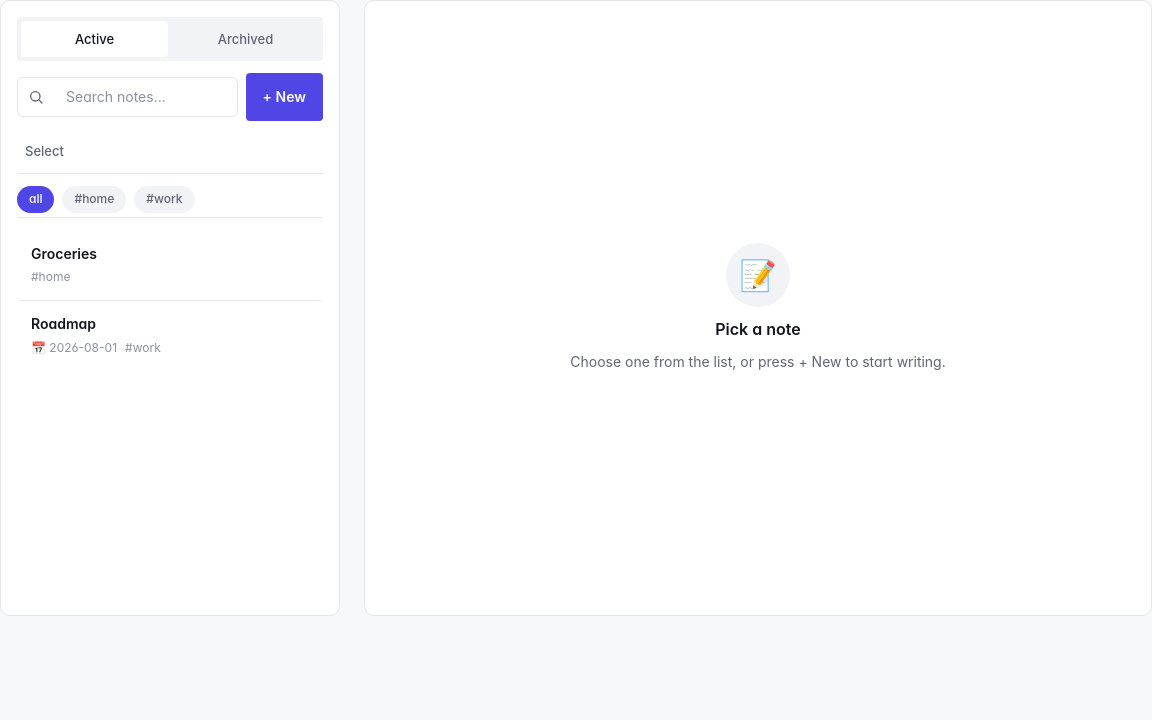
Notes page on the store › opens the editor on the picked note
Click the text "Roadmap" at (64,323), box left=31, top=315, right=96, bottom=332
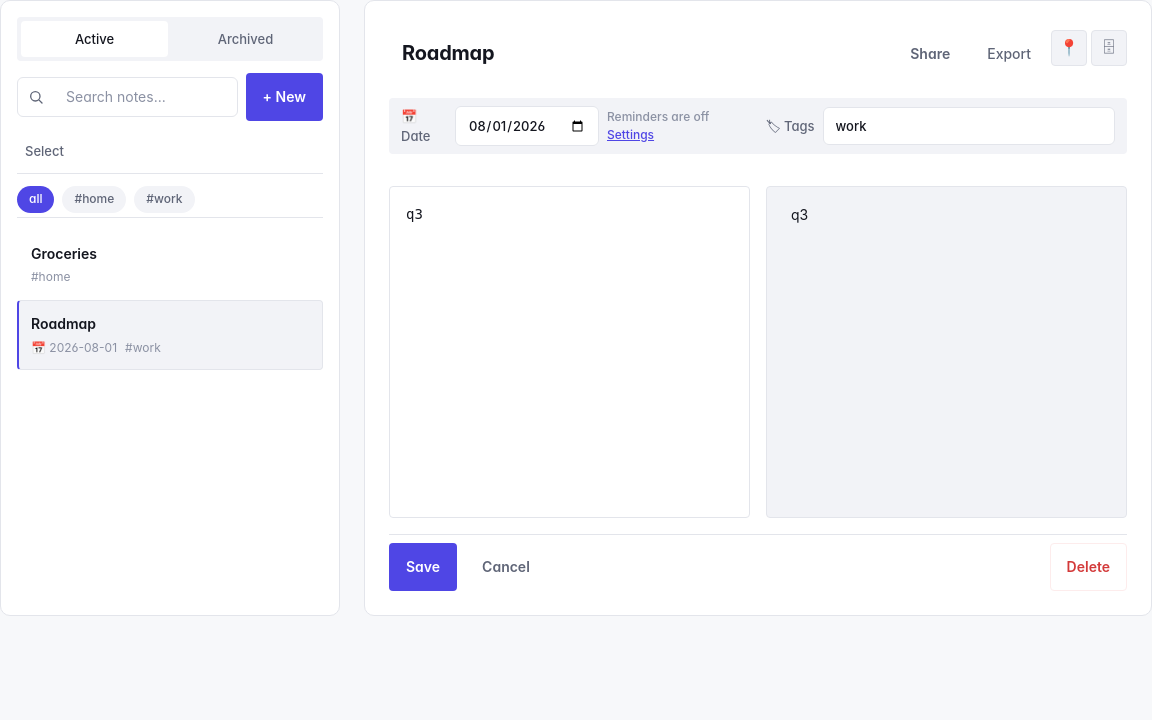
Now the field showing "Roadmap" is shown, box left=389, top=25, right=885, bottom=82
